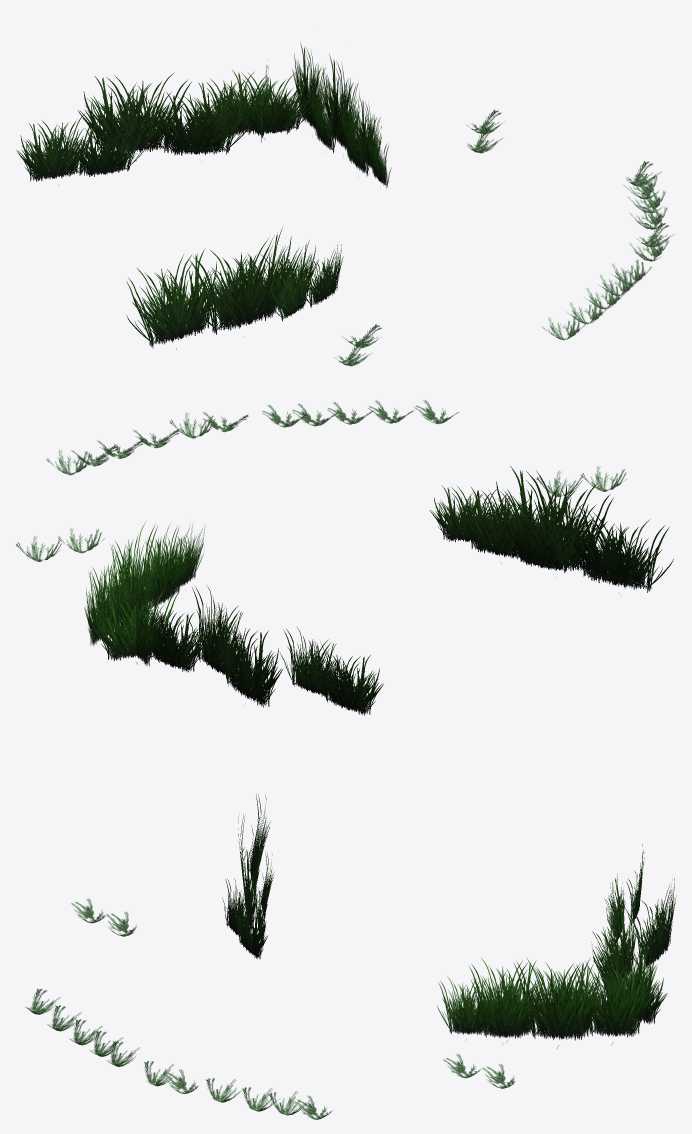
The model's file is carreras_arbusto.glb.
3 renders of one model, top to bottom at view 1: azimuth 30°, elevation 25°; view 2: azimuth 150°, elevation 25°; view 3: azimuth 270°, elevation 25°, orthographic. The views are drawn at different scales.
Visible parts, largest first — view 1: arbusto.008, arbusto.013, arbusto.014, arbusto.012, arbusto.004, arbusto.010, arbusto.005, arbusto.002, arbusto.003, arbusto.009; view 2: arbusto.008, arbusto.013, arbusto.009, arbusto.014, arbusto.004, arbusto.002, arbusto.005, arbusto.012, arbusto.010, arbusto.003; view 3: arbusto.004, arbusto.003, arbusto.005, arbusto.013, arbusto.002, arbusto.010, arbusto.008, arbusto.014, arbusto.009.
Part boxes in pixels (box(x1,y1,x2,y2)): arbusto.008: box(126, 227, 296, 349); arbusto.013: box(77, 72, 252, 160); arbusto.014: box(16, 113, 146, 181); arbusto.012: box(185, 72, 314, 135); arbusto.004: box(320, 54, 373, 176); arbusto.010: box(270, 244, 343, 321); arbusto.005: box(292, 42, 338, 153); arbusto.002: box(218, 60, 310, 142); arbusto.003: box(353, 96, 391, 188); arbusto.009: box(204, 240, 318, 320); arbusto.008: box(489, 466, 673, 592); arbusto.013: box(188, 586, 283, 707); arbusto.009: box(456, 487, 581, 572); arbusto.014: box(280, 627, 383, 715); arbusto.004: box(106, 522, 192, 619); arbusto.002: box(93, 582, 180, 666); arbusto.005: box(84, 550, 160, 645); arbusto.012: box(105, 584, 207, 672); arbusto.010: box(430, 486, 544, 541); arbusto.003: box(142, 523, 205, 589); arbusto.004: box(469, 957, 603, 1048); arbusto.003: box(437, 975, 534, 1044); arbusto.005: box(534, 961, 652, 1045); arbusto.013: box(591, 878, 676, 989); arbusto.002: box(594, 947, 667, 1024); arbusto.010: box(222, 878, 267, 959); arbusto.008: box(238, 794, 270, 931); arbusto.014: box(604, 844, 644, 943); arbusto.009: box(253, 851, 274, 940).
Bounding box in the file's own units: 10.33 × 2.21 × 10.36.
Materials: 3 (3 with a texture image).
